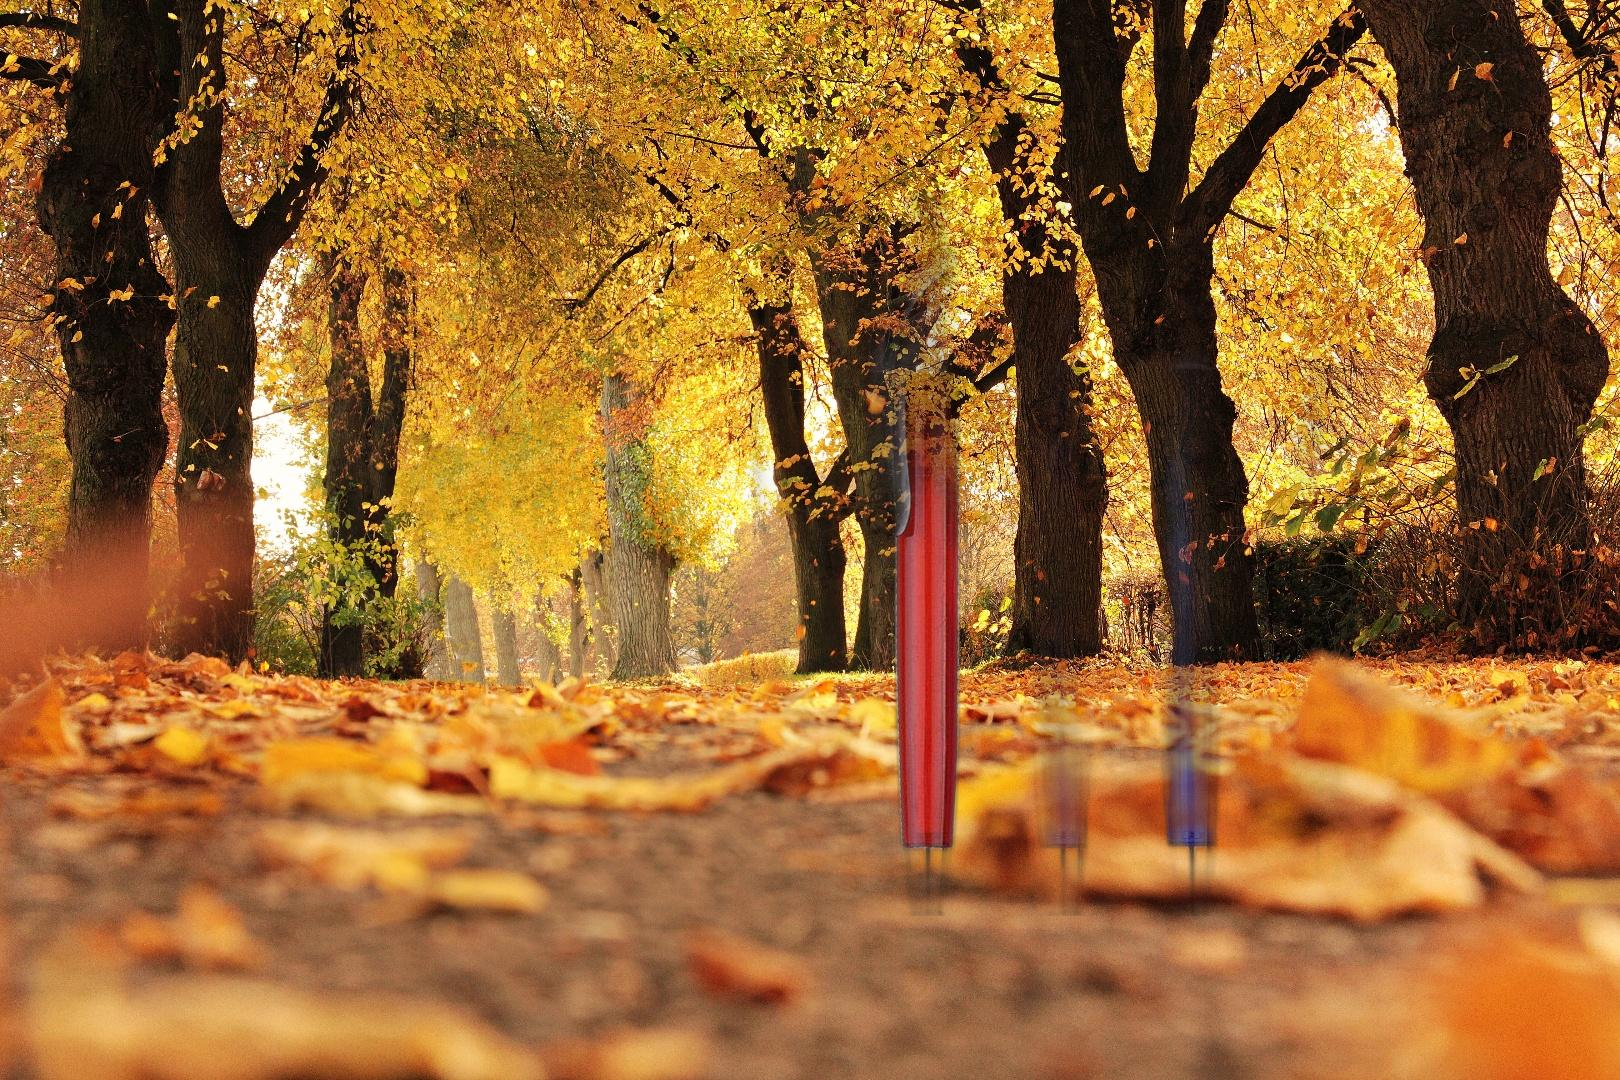penholder: (732, 168, 1401, 916)
